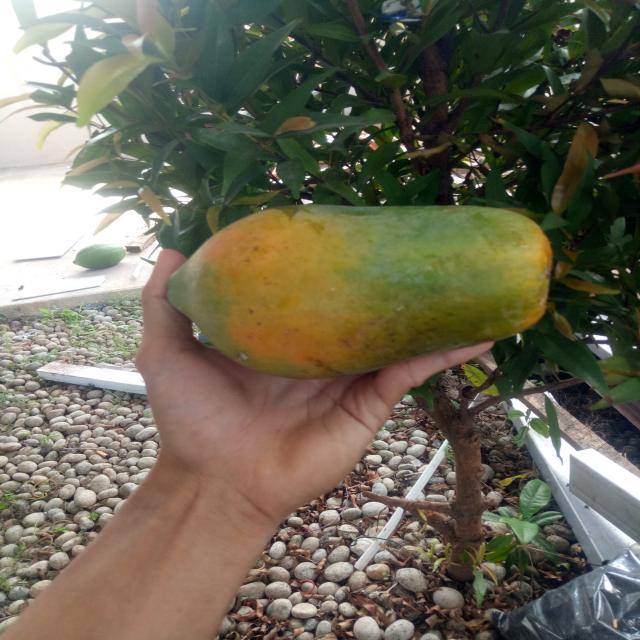Pepaya rippen: (168, 206, 562, 380)
Pepaya unrippen: (75, 239, 132, 269)
